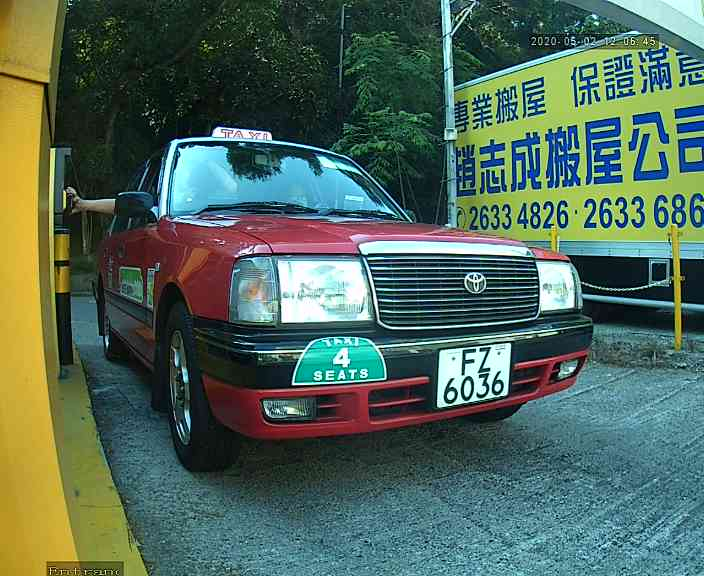taxi: (59, 94, 591, 489)
taxi_mark: (285, 323, 400, 400)
